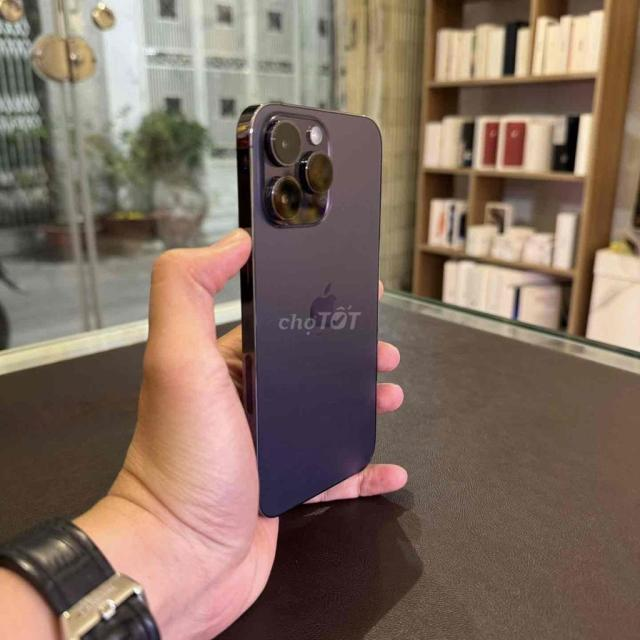gen_14: (223, 88, 386, 520)
